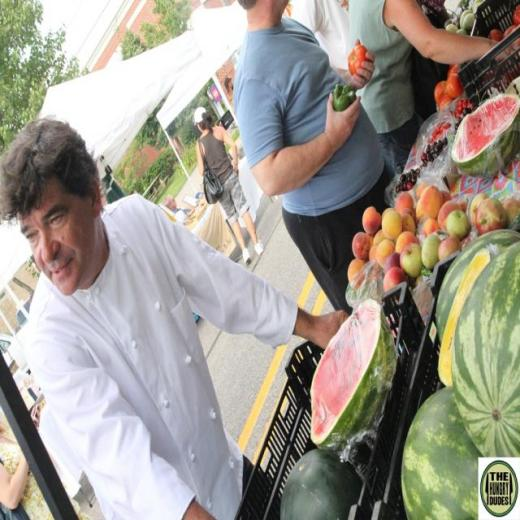Cherry: (449, 241, 520, 458), (309, 299, 395, 459), (398, 386, 484, 520), (434, 231, 520, 340), (435, 247, 490, 388), (449, 92, 520, 181), (280, 450, 364, 520)
